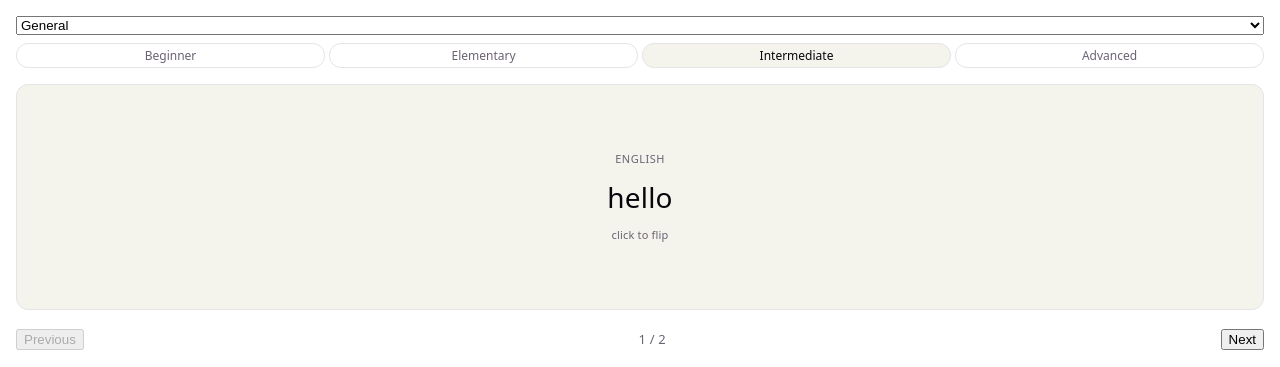
it: FlashcardsView › Next advances to second card and resets flip state
The width and height of the screenshot is (1280, 367).
Click the text "hello".
click(640, 197)  # box [607,184,673,210]
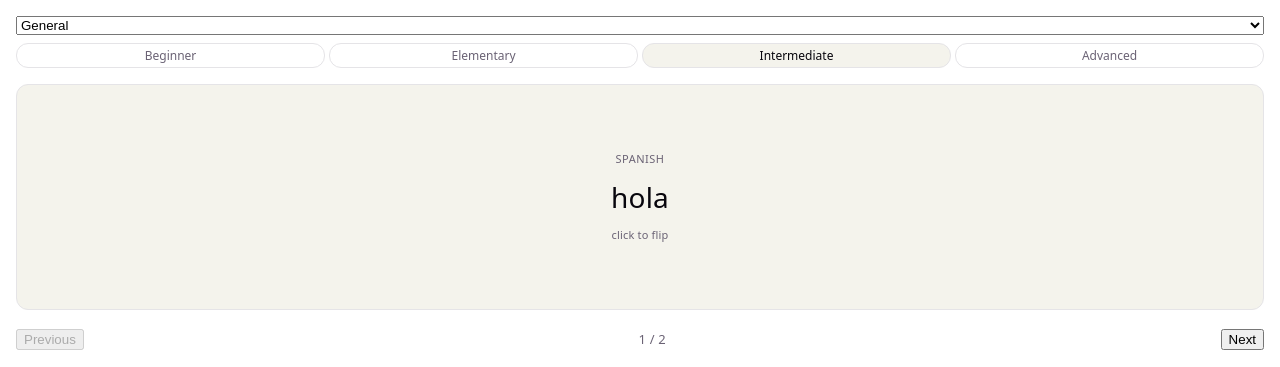
Click the button "Next".
click(1242, 339)  # box [1221,328,1264,350]
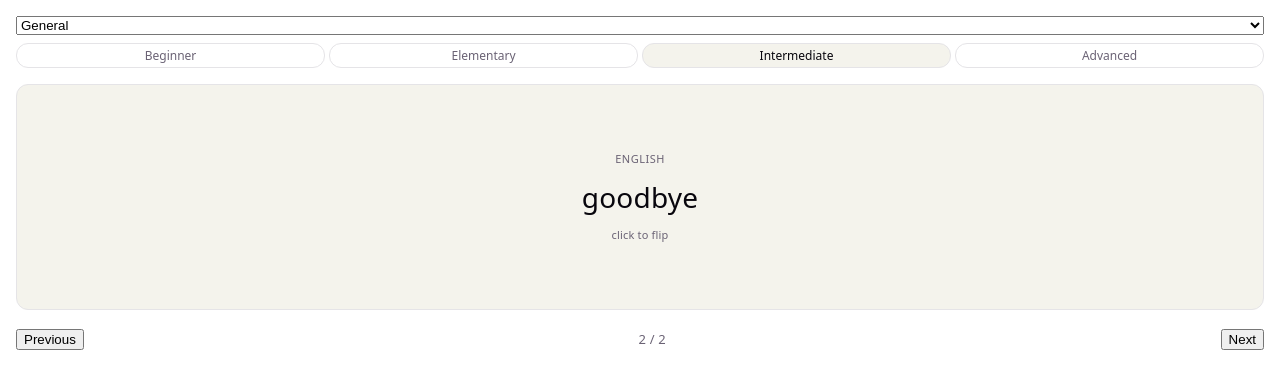
Expected: the text "goodbye" is shown, [582,184,698,210]
